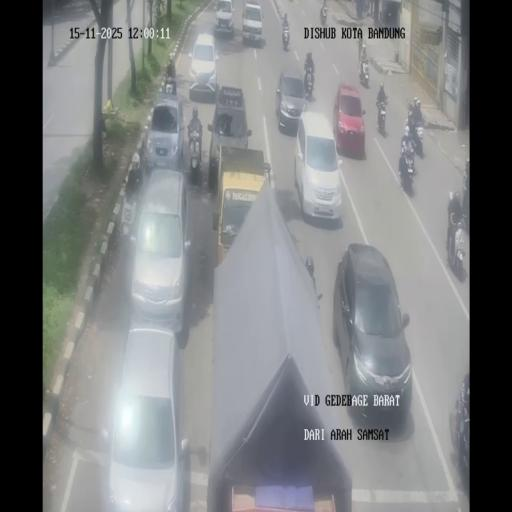car: (106, 326, 188, 510), (334, 246, 412, 426), (129, 169, 192, 329), (294, 111, 342, 223), (208, 86, 252, 188), (143, 90, 186, 174), (333, 82, 364, 156), (274, 68, 306, 133), (188, 32, 218, 101), (242, 2, 264, 46), (214, 0, 235, 37)
motorcycle: (120, 187, 138, 252), (446, 217, 466, 274), (186, 124, 202, 183), (404, 112, 424, 158), (399, 144, 415, 195), (460, 180, 470, 236), (376, 98, 387, 134), (162, 69, 176, 94), (304, 70, 315, 100), (359, 59, 370, 88), (282, 26, 290, 50), (320, 4, 328, 25), (358, 37, 364, 62), (362, 0, 370, 18), (379, 9, 384, 23)
